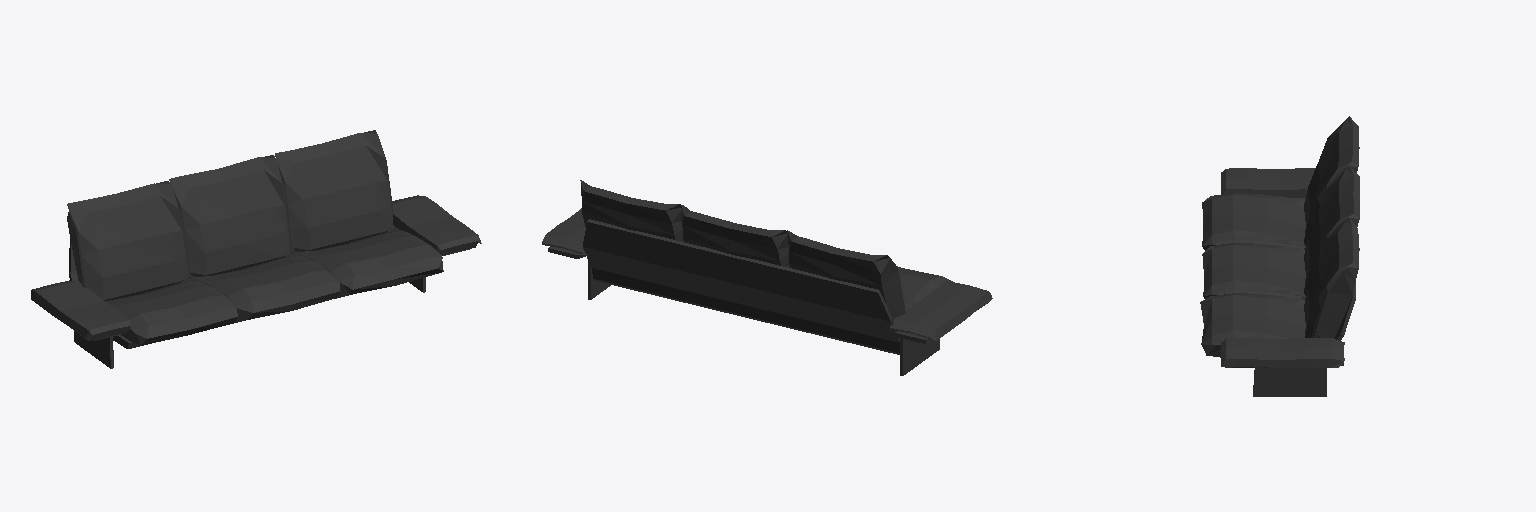
The model's file is Трёхместный диван.obj.
3 renders of one model, left to right at view 1: azimuth 30°, elevation 25°; view 2: azimuth 150°, elevation 25°; view 3: azimuth 270°, elevation 25°, orthographic.
Parts seen in each view (by area): view 1: LR_couch_1_1; view 2: LR_couch_1_1; view 3: LR_couch_1_1.
Part boxes in pixels (left/top/right/bottom): LR_couch_1_1: left=31, top=130, right=481, bottom=368; LR_couch_1_1: left=542, top=180, right=992, bottom=375; LR_couch_1_1: left=1200, top=116, right=1359, bottom=396.
Size of the model in its own units: 286 by 89.19 by 100.